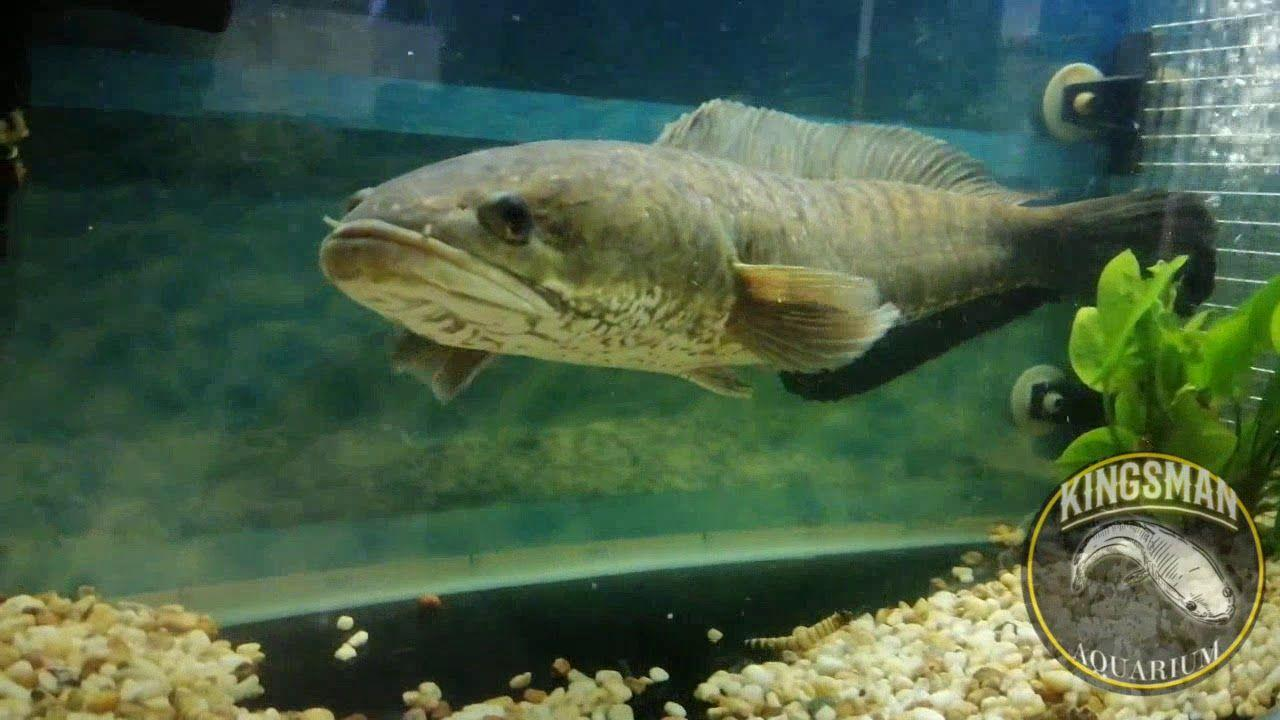Mudfish: (321, 94, 1234, 424)
